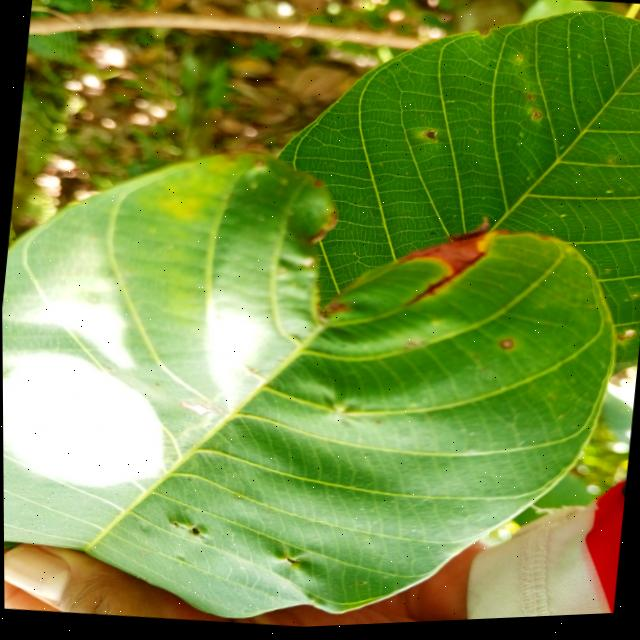Colletotrichum: (498, 342, 513, 355), (421, 133, 436, 145), (530, 115, 540, 125), (515, 60, 520, 66)
Corynespora: (407, 248, 485, 317)
Leaf-Blight: (392, 211, 491, 278)
